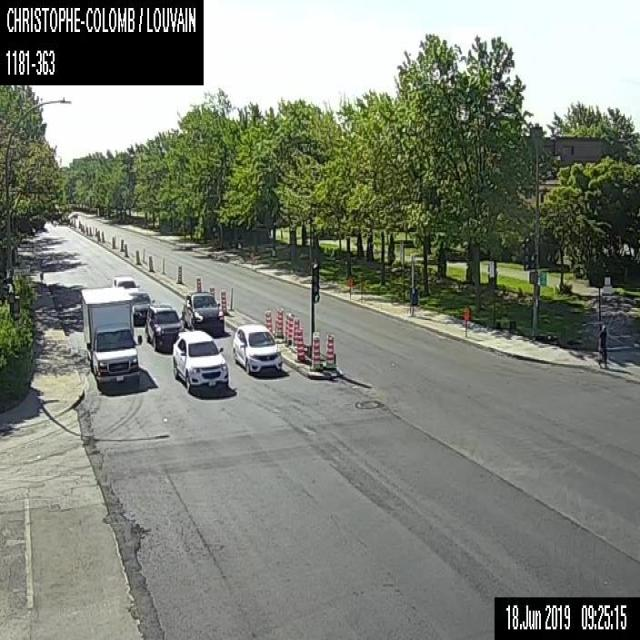construction: (310, 331, 321, 369), (324, 332, 334, 369), (295, 328, 305, 361), (291, 316, 299, 352), (275, 306, 283, 337), (287, 313, 294, 346), (284, 310, 291, 342), (119, 236, 127, 257), (220, 288, 226, 313), (264, 308, 271, 329), (147, 254, 153, 270), (134, 248, 140, 264), (176, 264, 181, 283), (195, 276, 201, 289), (110, 236, 116, 249), (230, 286, 233, 309), (209, 285, 215, 295), (462, 308, 468, 317), (161, 256, 164, 273), (347, 276, 352, 284), (97, 229, 100, 241), (101, 230, 104, 242), (142, 245, 144, 262), (94, 226, 97, 235), (88, 224, 91, 233), (85, 225, 88, 234), (82, 223, 84, 232), (80, 222, 82, 229), (78, 220, 80, 227)
pedestrian: (598, 323, 608, 368)
vehicle: (79, 285, 142, 387), (173, 330, 228, 392), (231, 322, 282, 374), (145, 302, 184, 350), (182, 290, 224, 332), (126, 290, 155, 322), (112, 274, 140, 290)
